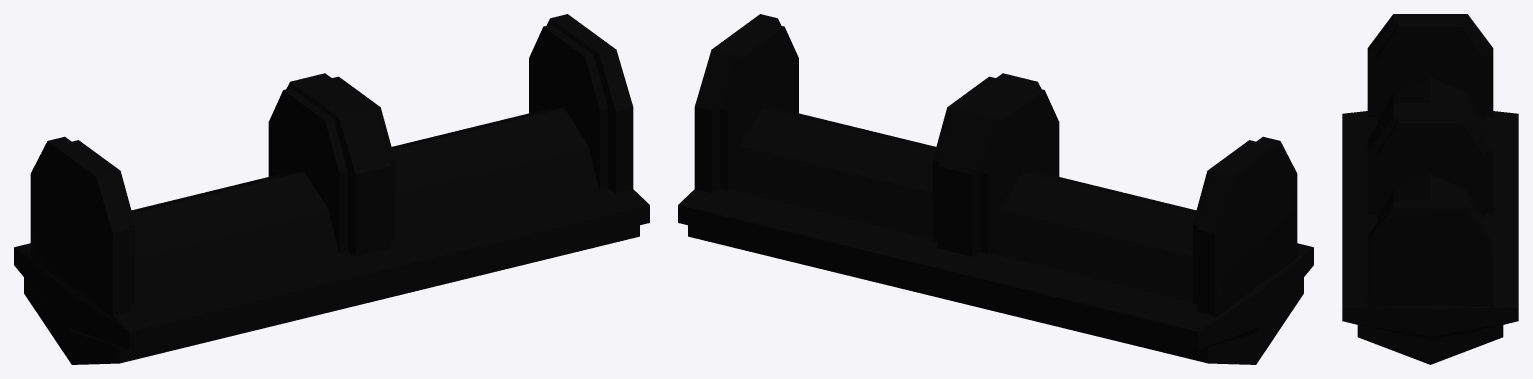
File: dark_SM_Bld_Roof_Cap_Half_01.gltf
3 views of the same model, side by side, from view 1: azimuth 30°, elevation 25°; view 2: azimuth 150°, elevation 25°; view 3: azimuth 270°, elevation 25° (orthographic). The views are drawn at different scales.
Parts seen in each view (by area): view 1: SM_Bld_Roof_Cap_Half_01; view 2: SM_Bld_Roof_Cap_Half_01; view 3: SM_Bld_Roof_Cap_Half_01.
Part boxes in pixels (x1=…): SM_Bld_Roof_Cap_Half_01: x1=14, y1=14, x2=649, y2=364; SM_Bld_Roof_Cap_Half_01: x1=678, y1=14, x2=1313, y2=364; SM_Bld_Roof_Cap_Half_01: x1=1342, y1=14, x2=1518, y2=364.
Size of the model in its own units: 1.27 by 0.4734 by 0.4807.
Materials: 1 (1 with a texture image).
